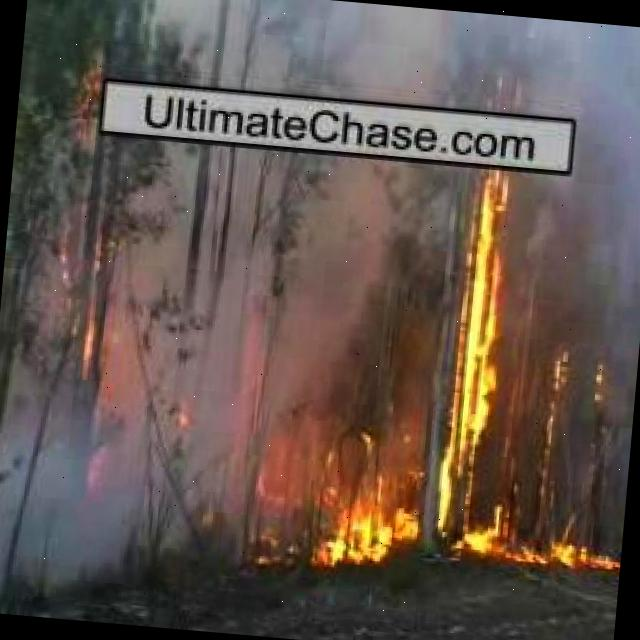fire: (444, 147, 538, 555), (300, 444, 421, 580), (72, 303, 136, 427), (520, 538, 622, 572), (77, 56, 115, 142)
